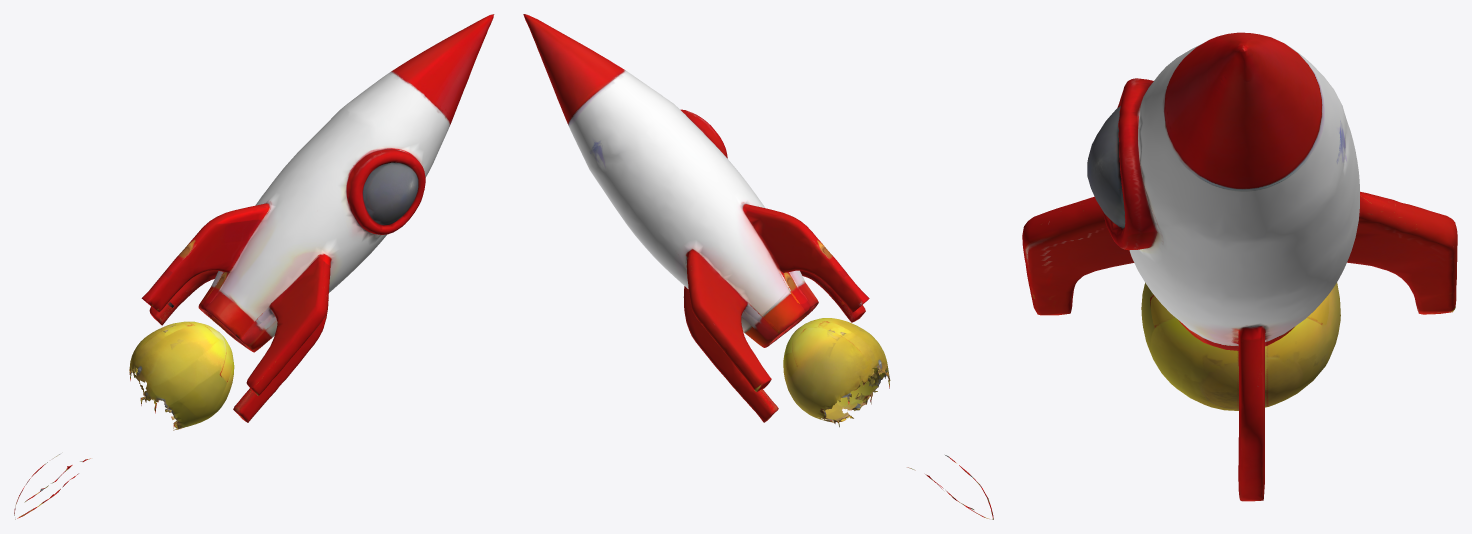
Rendered from a_roket_item_in_a_mar_0801144949_texture.fbx.
3 renders of one model, left to right at view 1: azimuth 30°, elevation 25°; view 2: azimuth 150°, elevation 25°; view 3: azimuth 270°, elevation 25°, orthographic. The views are drawn at different scales.
Parts seen in each view (by area): view 1: Mesh1.0; view 2: Mesh1.0; view 3: Mesh1.0.
Boxes of the visible parts, box(x1,y1,x2,y2) form: Mesh1.0: box(14, 14, 494, 519); Mesh1.0: box(523, 14, 993, 519); Mesh1.0: box(1022, 32, 1457, 501).
Size of the model in its own units: 197 by 155 by 78.57.
1 material, 1 textured.
